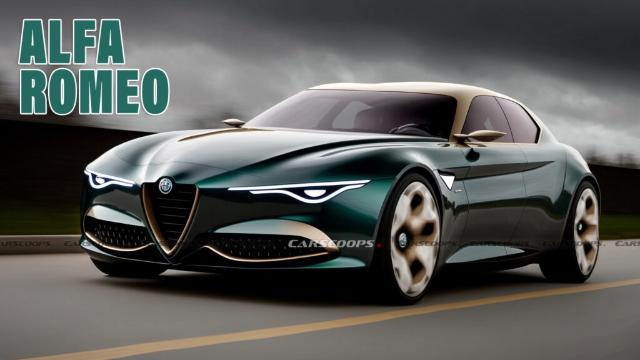alpha-romeo: (76, 80, 602, 306)
